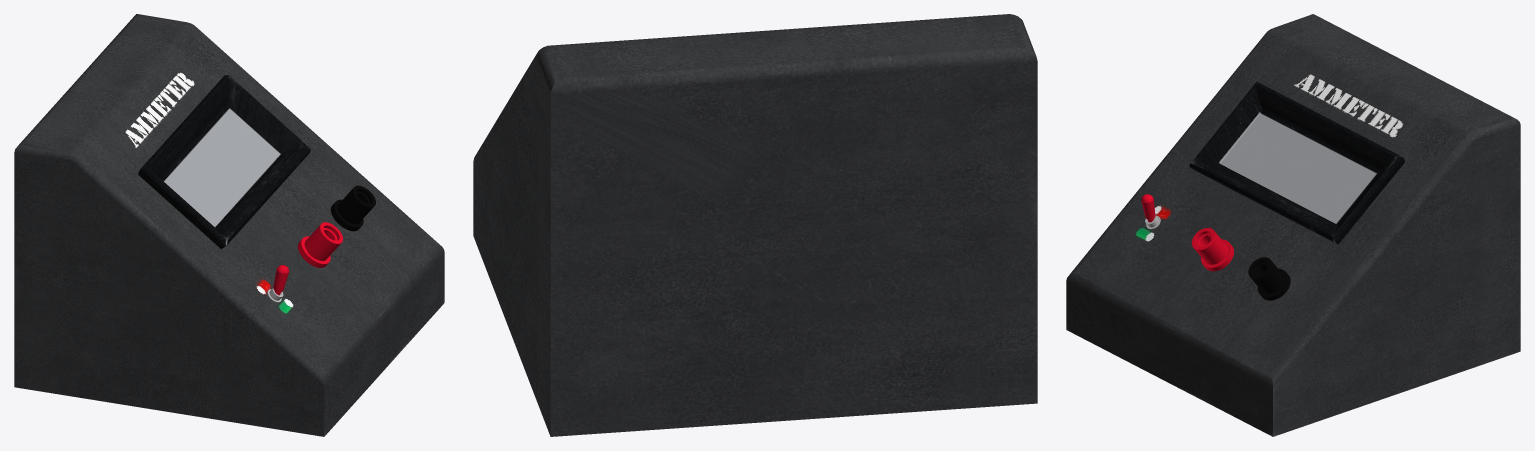
The model's file is Ammeter_final.fbx.
3 views of the same model, side by side, from view 1: azimuth 30°, elevation 25°; view 2: azimuth 150°, elevation 25°; view 3: azimuth 270°, elevation 25° (orthographic). The views are drawn at different scales.
Visible parts, largest first — view 1: pCube1, red_port, black_port; view 2: pCube1; view 3: pCube1, black_port, red_port.
Part boxes in pixels (x1,y1,x2,y2): pCube1: [14, 14, 444, 436]; red_port: [297, 222, 342, 267]; black_port: [330, 185, 375, 231]; pCube1: [473, 14, 1037, 436]; pCube1: [1066, 14, 1520, 436]; black_port: [1248, 257, 1290, 300]; red_port: [1191, 228, 1233, 271].
Bounding box in the file's own units: 6 × 3.4 × 5.98.
